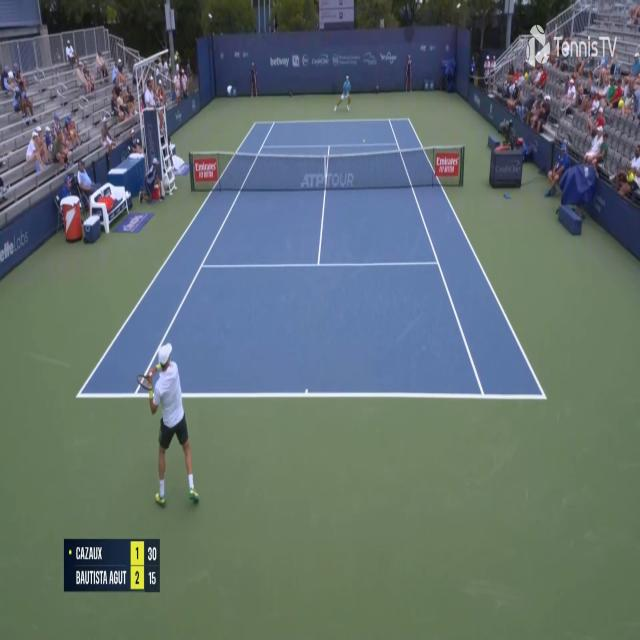tennis-player: (134, 274, 204, 512), (333, 74, 352, 115)
